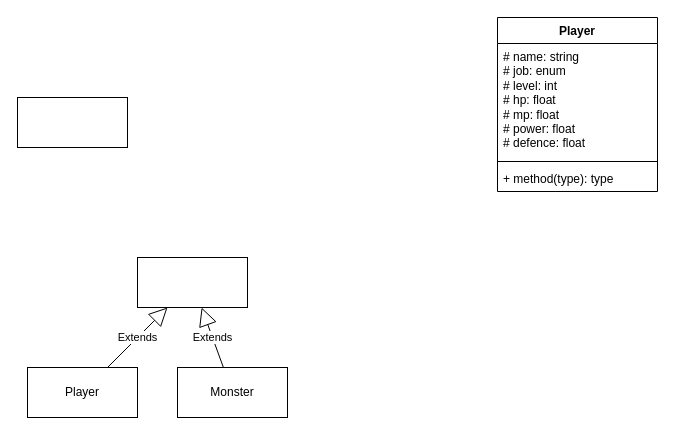
This 675x435 diagram has some shape labels left out. The shapes that lost their labels are listed below. From the top down, each one's centre as x and y in pixels, then its label:
At pixel 72 122: "GameManager".
At pixel 192 282: "GameEntity".
